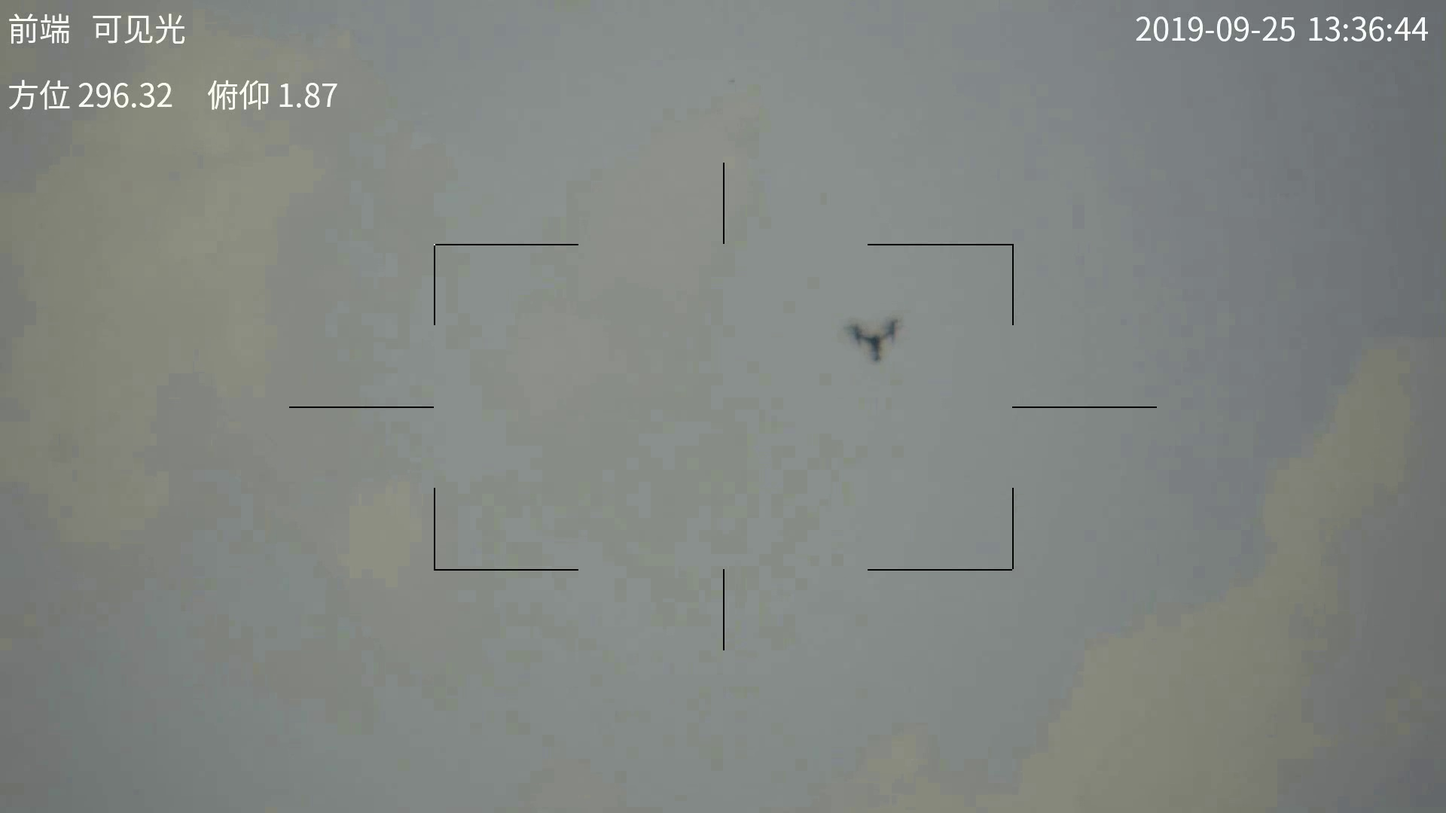drone_other: (845, 317, 906, 364)
